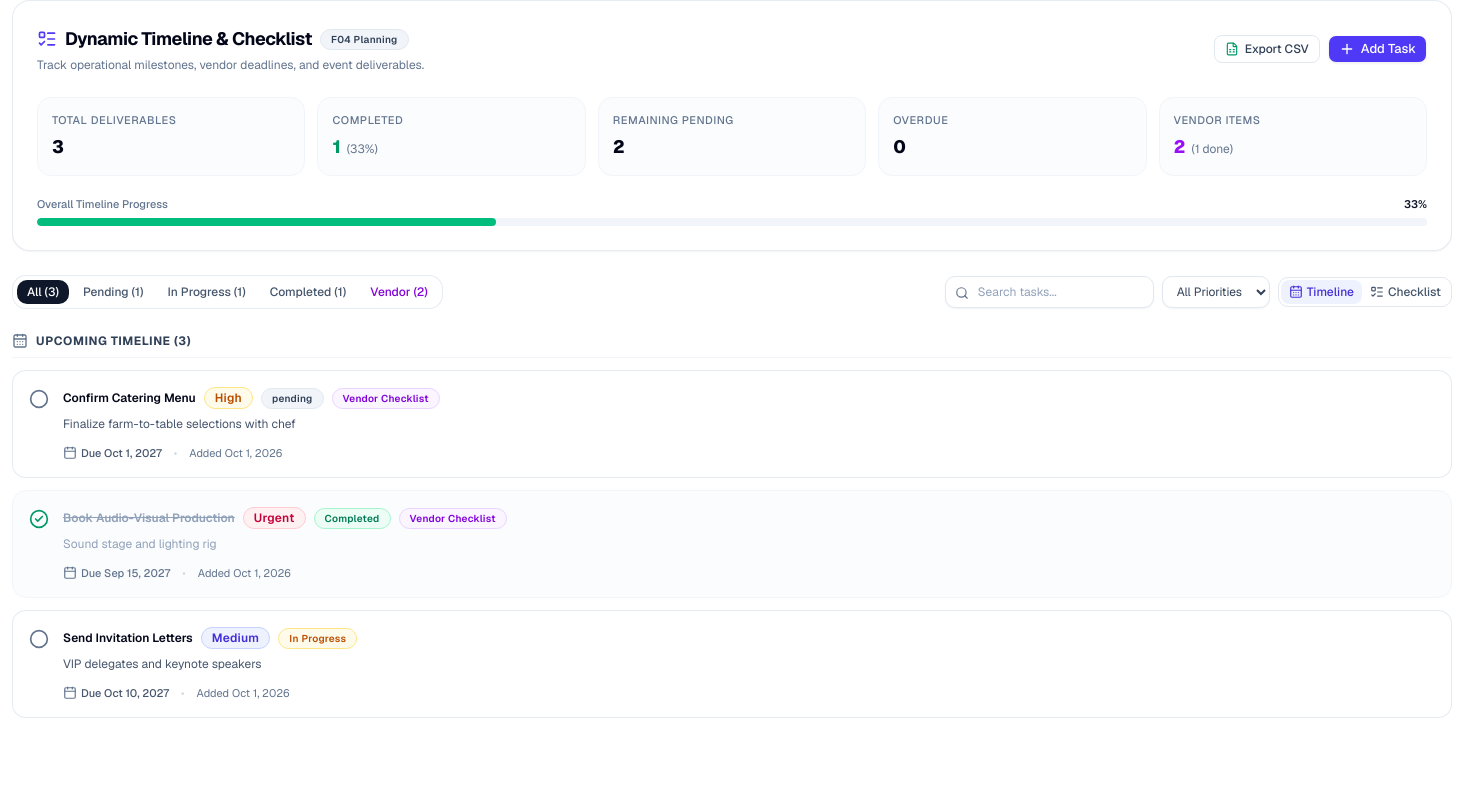
TimelineChecklistManager Component › filters tasks interactively by priority select dropdown
The image size is (1464, 810).
Select "Urgent" in the dropdown named "filter checklist tasks by priority" at {"x": 1216, "y": 292}, box [1162,276,1270,308]
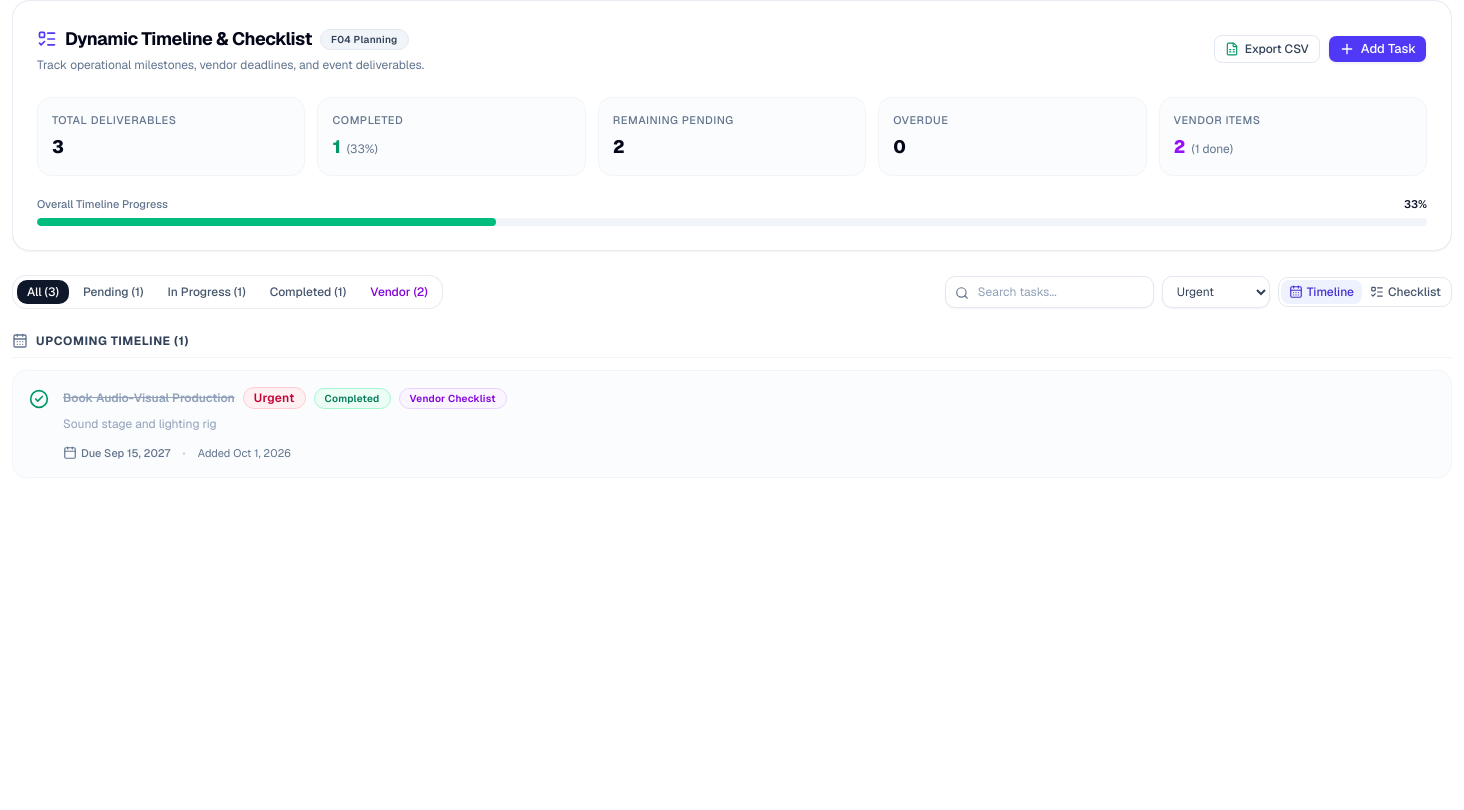
Check: the text "Book Audio-Visual Production" is shown, box [63,390,235,406]
Check: the text "Confirm Catering Menu" is gone
